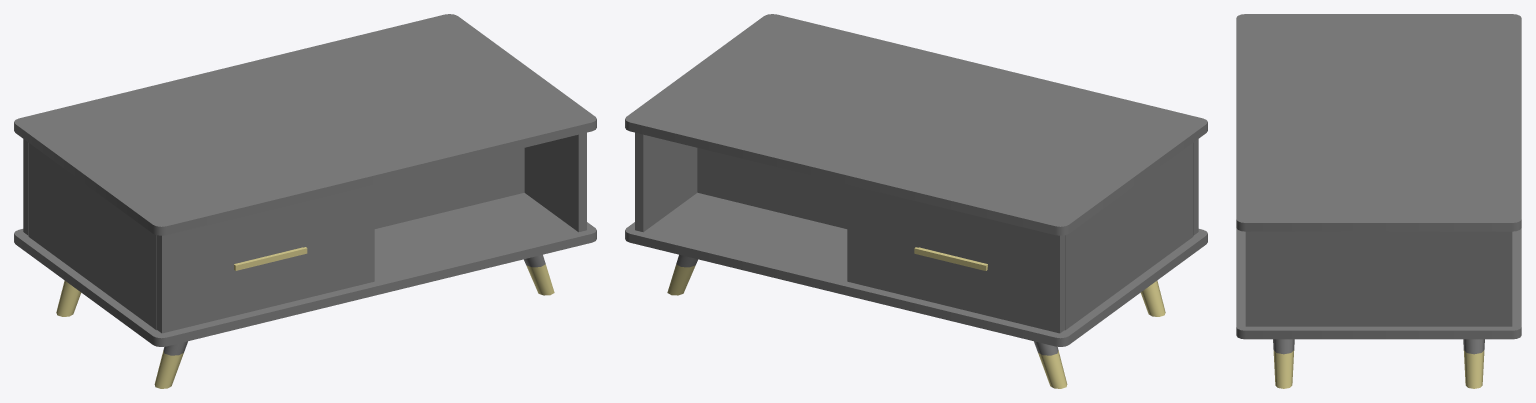
File: CoffeeTable10.glb
3 renders of one model, left to right at view 1: azimuth 30°, elevation 25°; view 2: azimuth 150°, elevation 25°; view 3: azimuth 270°, elevation 25°, orthographic. The views are drawn at different scales.
Visible parts, largest first — view 1: CoffeeTable10; view 2: CoffeeTable10; view 3: CoffeeTable10.
Boxes of the visible parts, x1,y1,x2,y2 form: CoffeeTable10: (14, 14, 596, 388); CoffeeTable10: (625, 14, 1207, 388); CoffeeTable10: (1236, 14, 1521, 388).
Bounding box in the file's own units: 1.04 × 0.4092 × 0.6.
